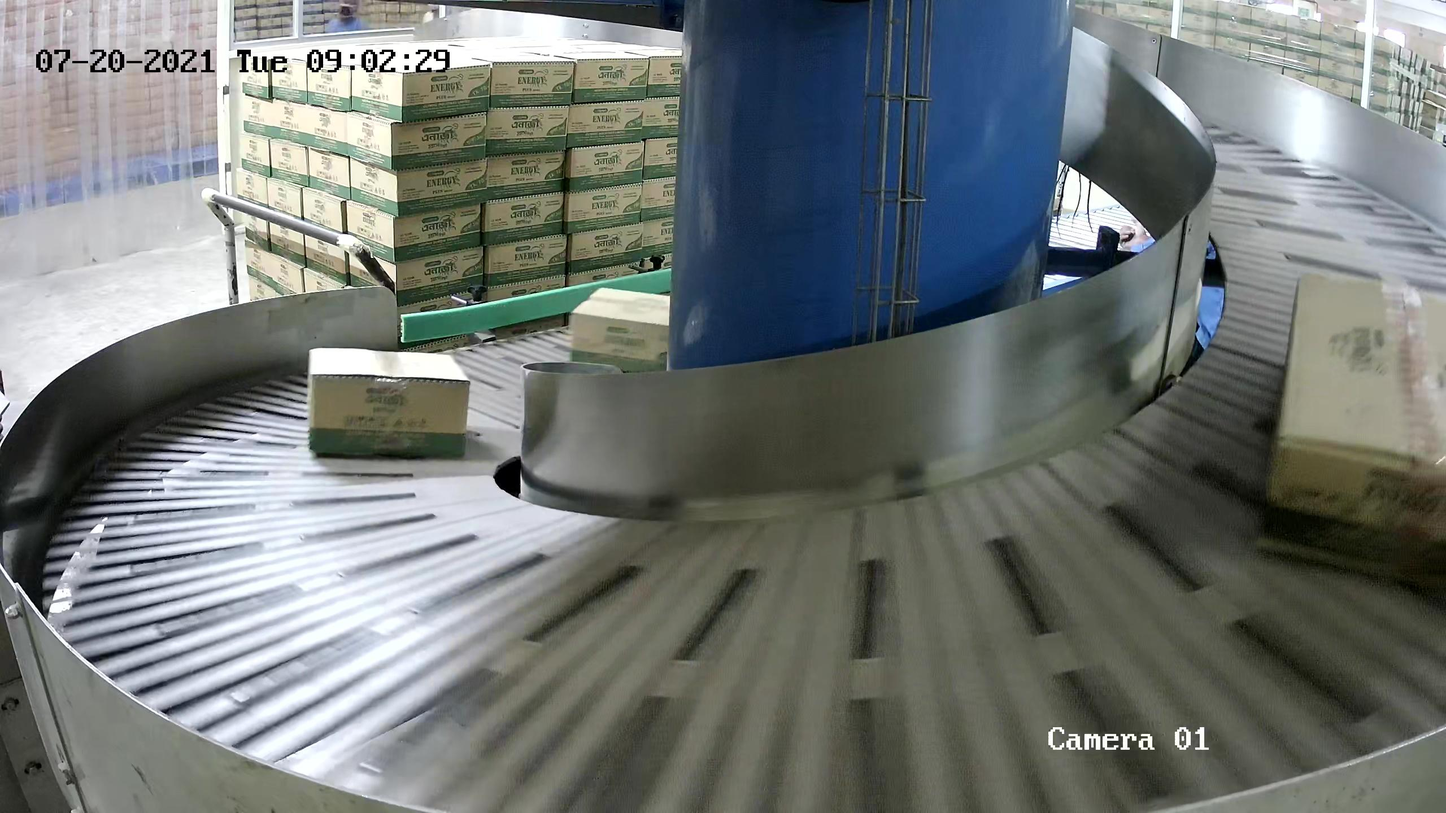Box: (1255, 268, 1446, 594), (306, 347, 470, 459), (568, 285, 670, 371)
